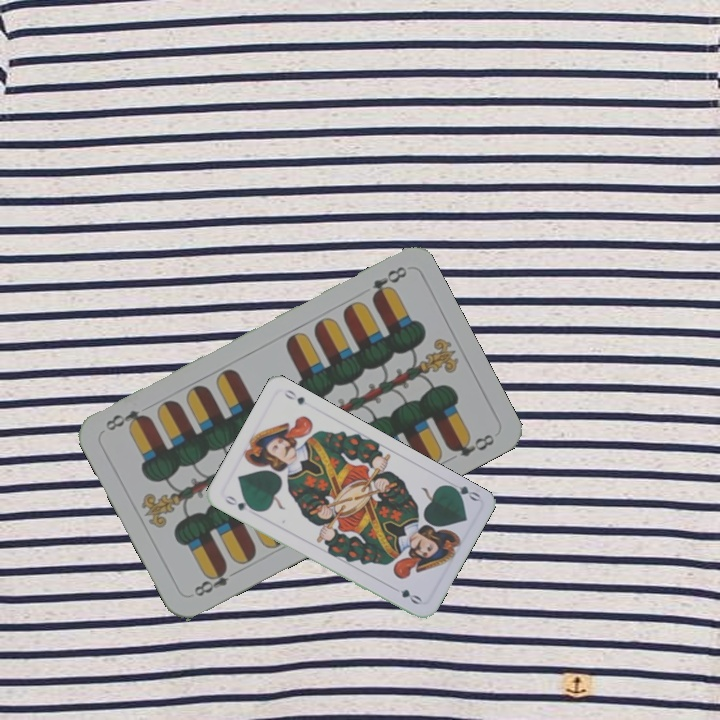E8: (190, 561, 242, 600), (367, 262, 410, 303)
GO: (443, 480, 482, 504), (221, 491, 258, 514)
